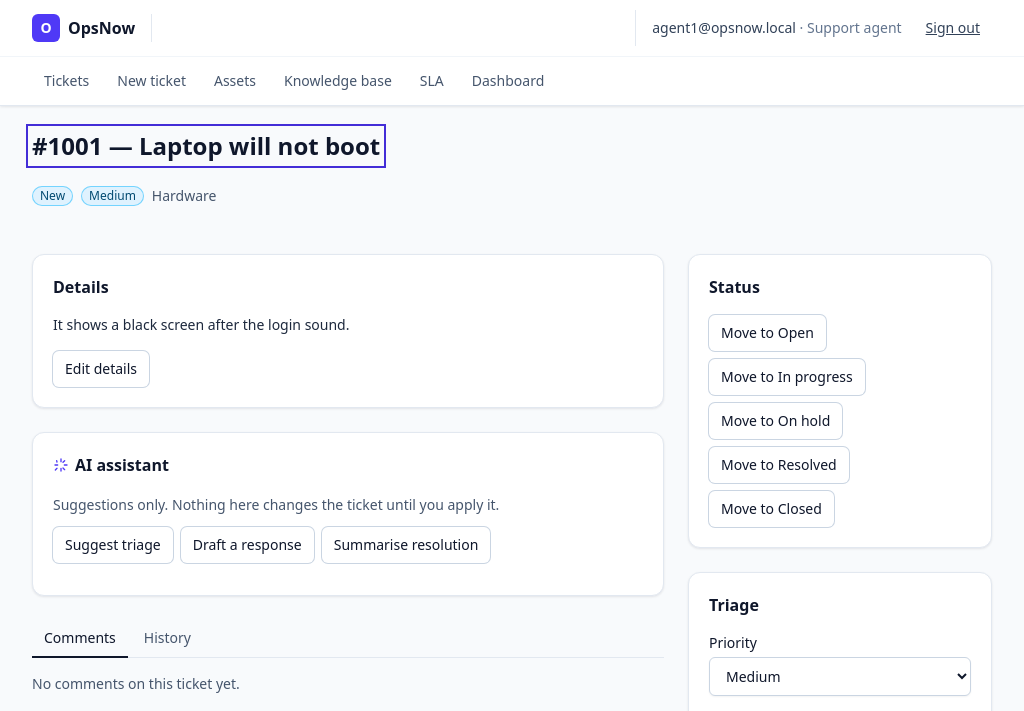
Test: AI assistant — triage › handles a 200 in which every field was dropped
Expected: the heading "#1001 — Laptop will not boot" is shown, [32, 130, 380, 162]
Click the button "Suggest triage".
click(113, 545)  # box [53, 527, 173, 563]
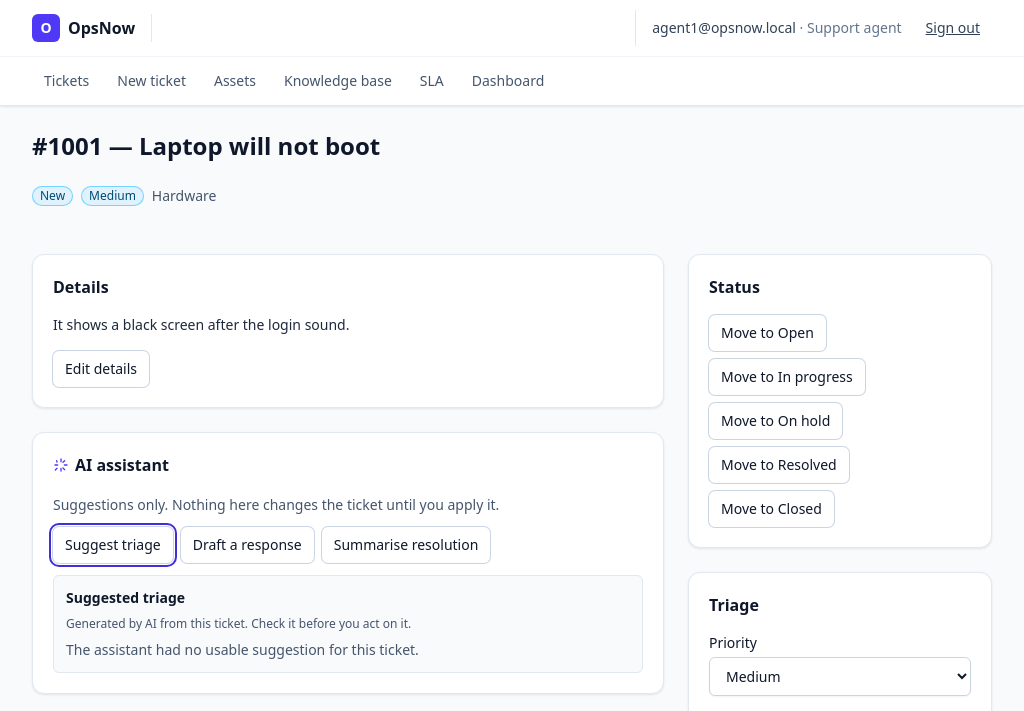
Now the text "The assistant had no usable suggestion for this ticket." is shown, box [66, 640, 419, 659]
